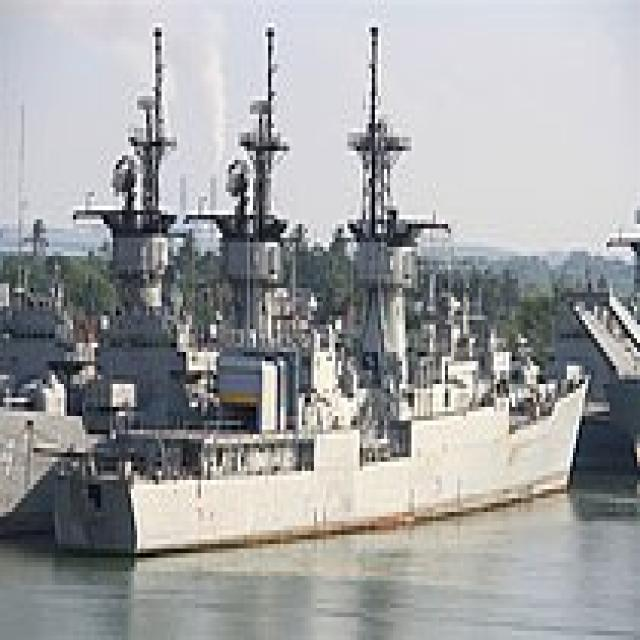Warship: (46, 18, 585, 558), (0, 14, 302, 544)
